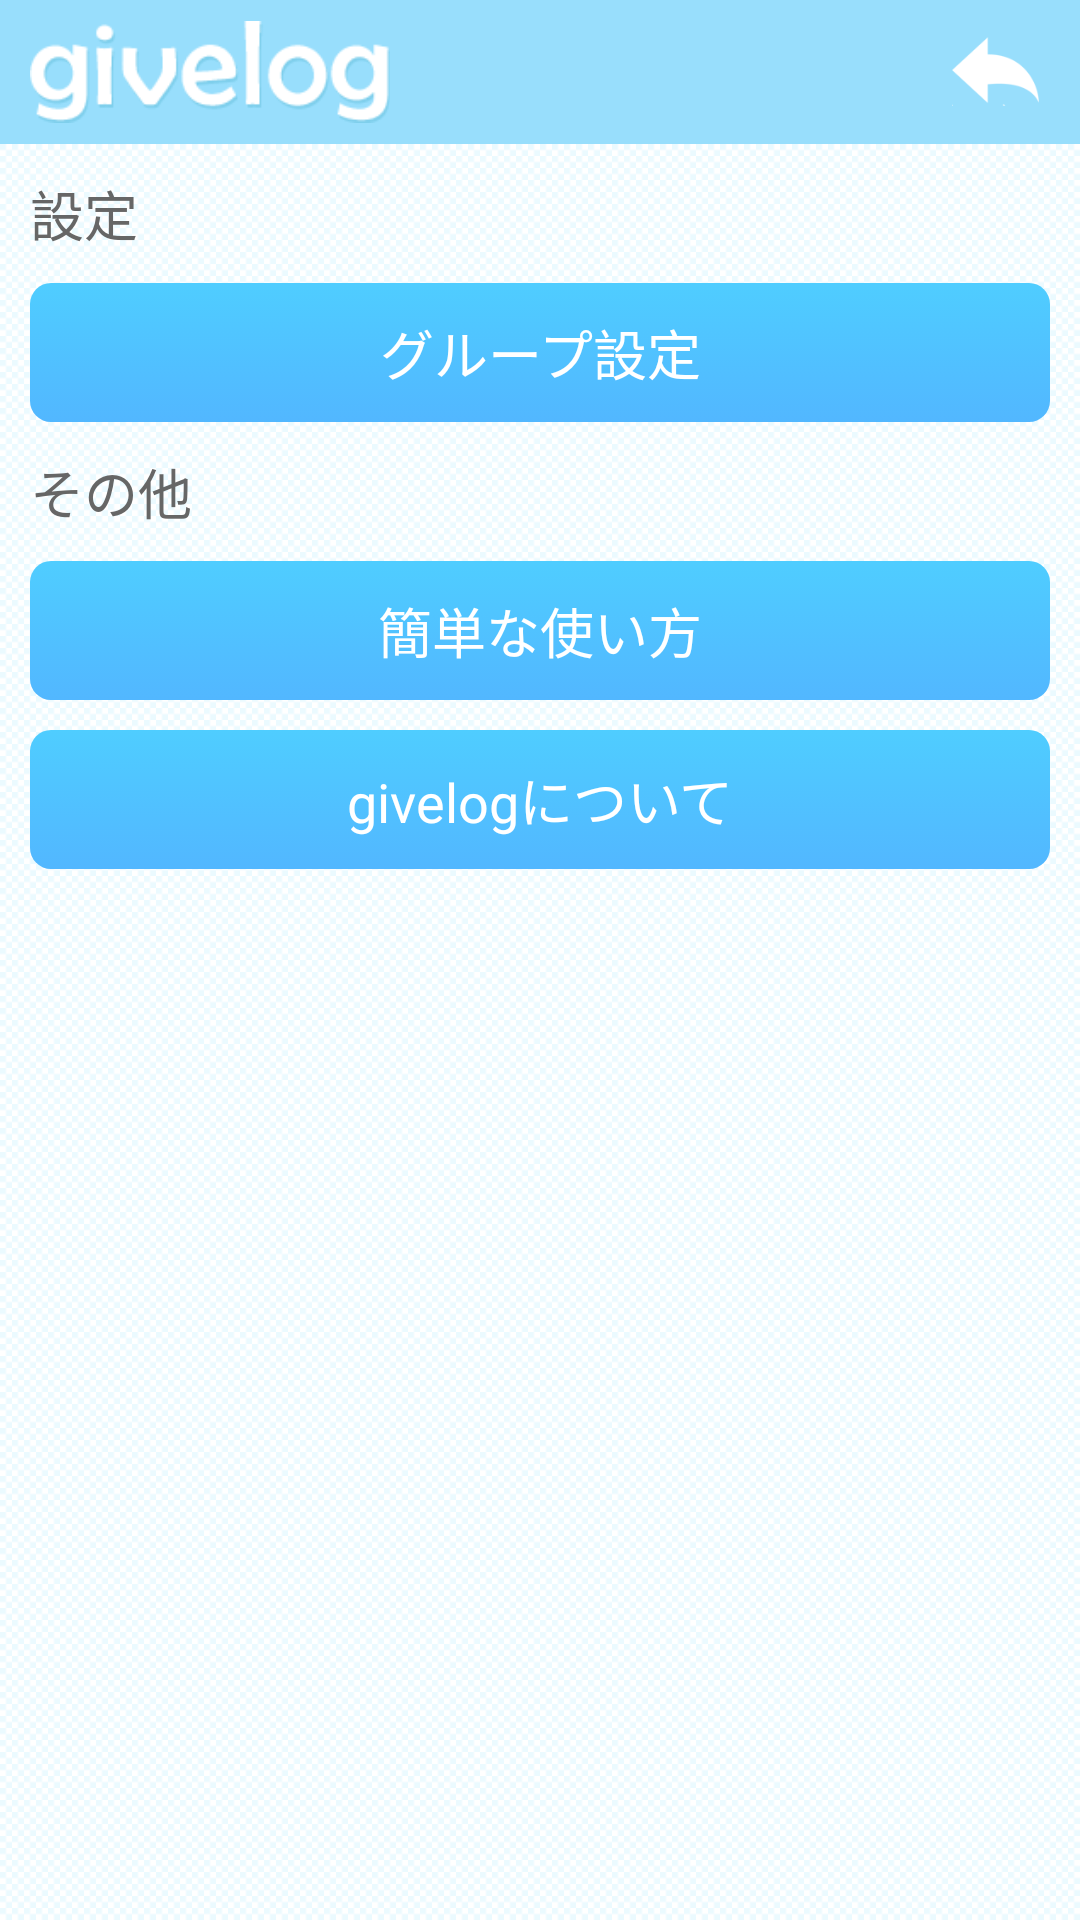

Icons on this 1080×1920 Android screen, each with its box as (x1, y1, x2, y2):
return: (952, 38, 1039, 106)
